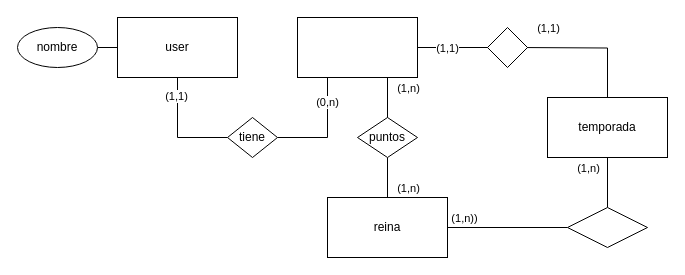
Image size: 685x275. Some labels were removed from this diagram. Here are the shapes that lost their labels. From the top down, the centre of each, then its label:
point 357,47: ranking
point 507,47: de
point 607,227: pertenece
